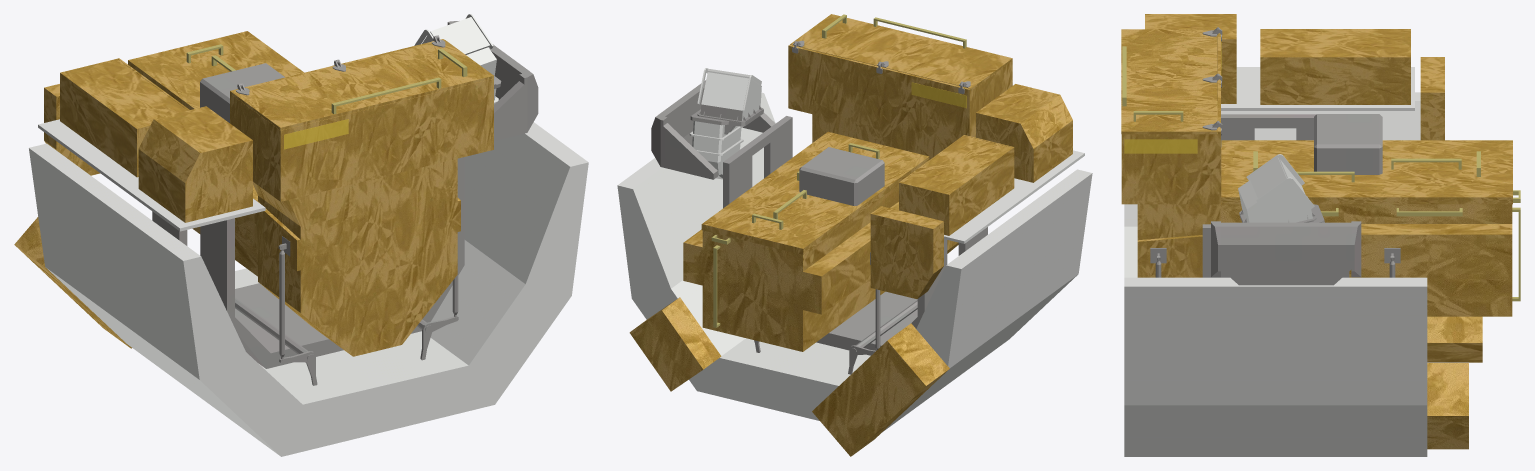
File: equipment.glb
3 views of the same model, side by side, from view 1: azimuth 30°, elevation 25°; view 2: azimuth 150°, elevation 25°; view 3: azimuth 270°, elevation 25° (orthographic). The views are drawn at different scales.
Parts seen in each view (by area): view 1: spaceshutt; view 2: spaceshutt; view 3: spaceshutt.
Part boxes in pixels (bbox=[...]): spaceshutt: bbox=[14, 14, 588, 456]; spaceshutt: bbox=[617, 14, 1092, 456]; spaceshutt: bbox=[1121, 14, 1520, 456].
Bounding box in the file's own units: 174 × 141 × 151.
4 materials, 4 textured.
